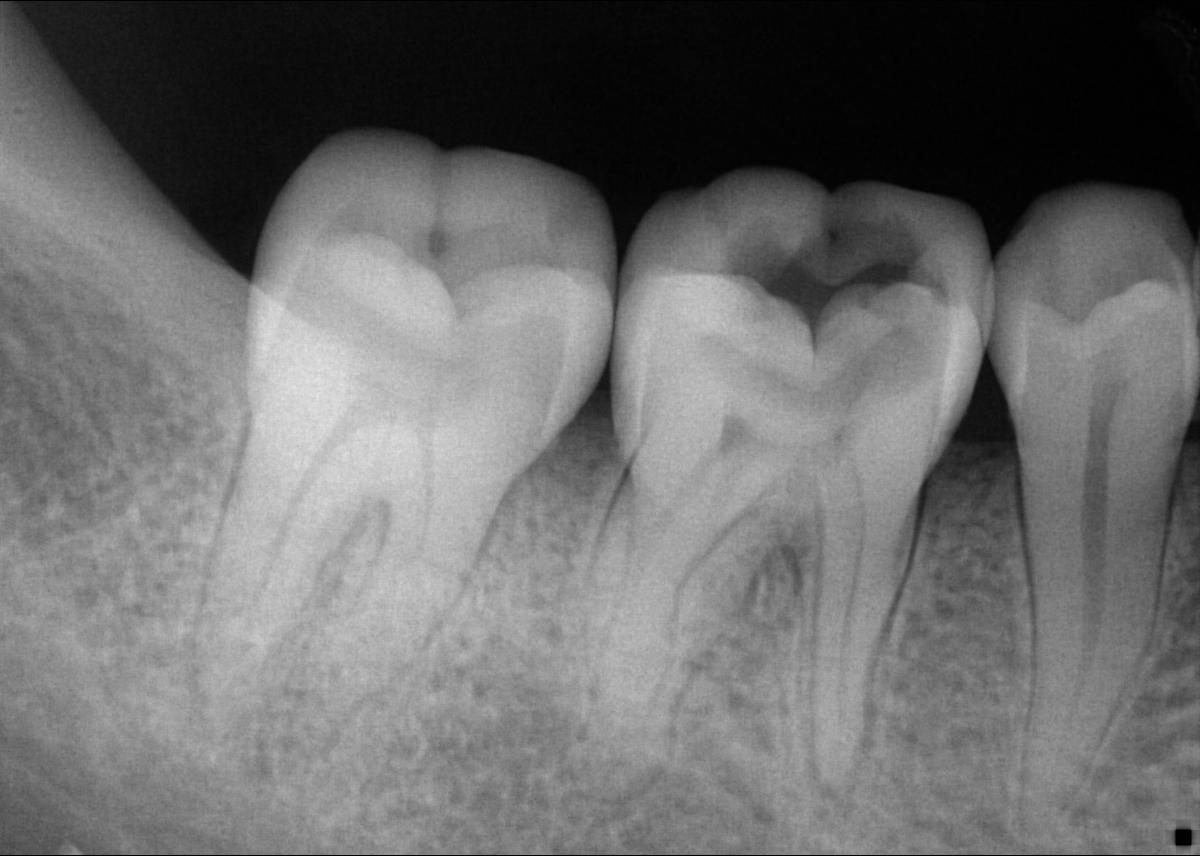Endo-Periodontal Lesion: (739, 537, 807, 634)
